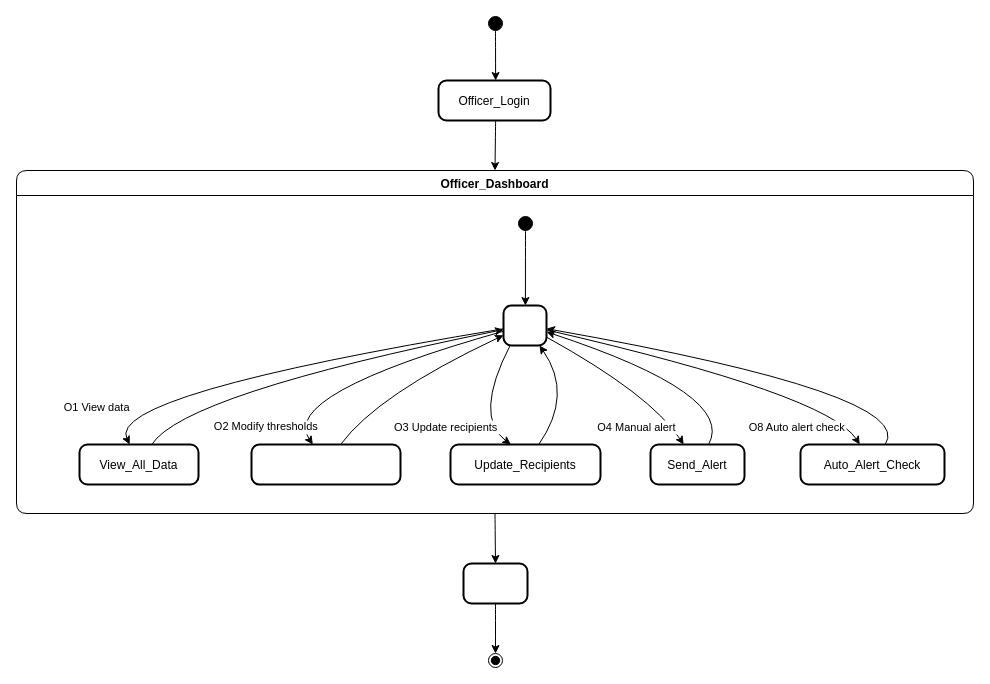
The diagram is 990 pixels wide and 684 high, and some of its shapes have lost their labels. Each missing label, with the box of its shape:
Idle: (502, 304, 547, 346)
Logout: (462, 562, 528, 604)
Modify_Thresholds: (250, 443, 401, 485)
